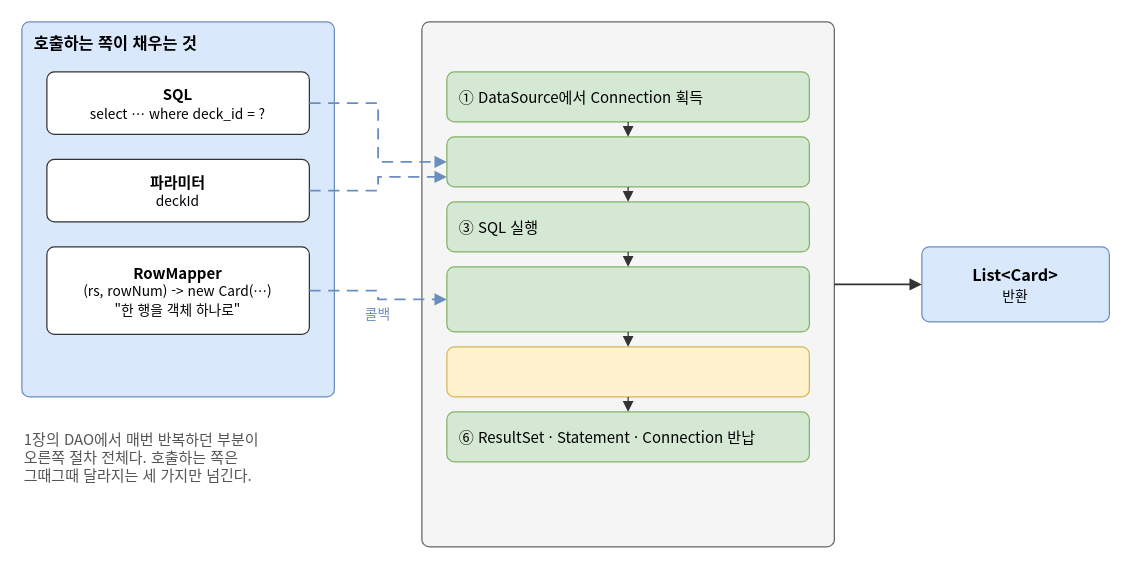
Some shapes in this 1131 by 569 pixel diagram are drawn without their labels. Each missing label, with the box of its shape:
JdbcTemplate.query() 가 수행하는 절차: (421, 21, 834, 547)
② PreparedStatement 생성, 파라미터 바인딩: (446, 136, 809, 187)
④ ResultSet을 한 행씩 순회하며 행마다 RowMapper 호출: (446, 266, 809, 332)
⑤ SQLException → DataAccessException 번역: (446, 346, 809, 397)
